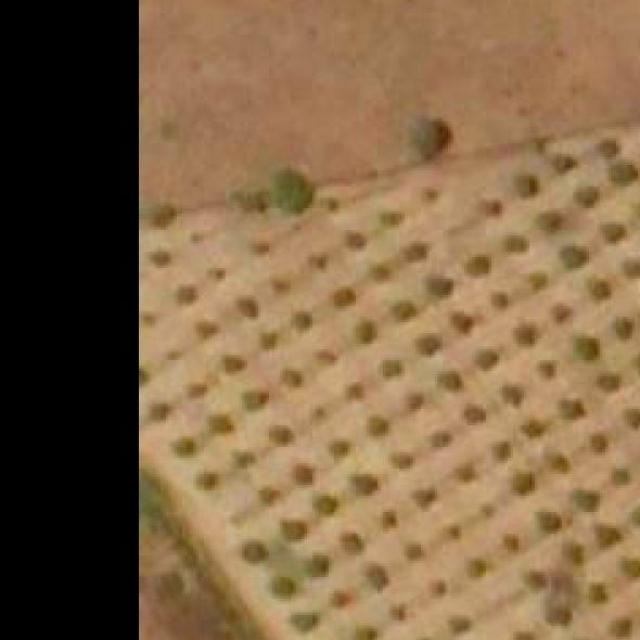Tree: (404, 110, 450, 160), (269, 168, 312, 215), (288, 609, 320, 640), (423, 276, 456, 300), (502, 236, 532, 260), (146, 398, 173, 424), (594, 523, 622, 548), (435, 366, 461, 392), (500, 530, 526, 556), (561, 244, 586, 271), (304, 252, 331, 276), (183, 380, 210, 404), (378, 206, 406, 228), (450, 461, 475, 485), (488, 438, 513, 462), (590, 432, 614, 457), (288, 308, 312, 332), (231, 447, 255, 471), (204, 262, 228, 286), (387, 452, 412, 475), (148, 206, 174, 228), (487, 292, 513, 314), (611, 163, 638, 184), (573, 184, 600, 205), (610, 464, 634, 487), (599, 222, 624, 244), (241, 539, 266, 561), (218, 355, 244, 376), (466, 400, 489, 423), (258, 485, 280, 509), (196, 468, 218, 492), (269, 274, 291, 298), (369, 262, 391, 286), (575, 339, 600, 360), (546, 604, 572, 624), (352, 474, 378, 494), (376, 506, 396, 532), (257, 328, 280, 350), (402, 541, 423, 565), (537, 210, 562, 230), (515, 322, 535, 347), (515, 472, 535, 497), (268, 425, 293, 445), (387, 601, 407, 625), (304, 553, 325, 575), (418, 333, 439, 355), (622, 255, 640, 280), (540, 512, 562, 532), (244, 389, 266, 409), (209, 414, 231, 434), (334, 286, 356, 306), (515, 176, 535, 197), (369, 566, 388, 588), (282, 520, 304, 539), (369, 414, 388, 436), (428, 431, 454, 447), (529, 270, 549, 290), (453, 311, 473, 331), (467, 254, 488, 273), (407, 241, 428, 260), (551, 303, 571, 322), (589, 583, 609, 602), (137, 311, 157, 330), (622, 555, 640, 576), (575, 493, 597, 510), (450, 618, 472, 635), (412, 490, 434, 507), (195, 322, 217, 339), (383, 357, 402, 376), (562, 401, 583, 418), (174, 439, 195, 456), (431, 577, 448, 598), (251, 241, 272, 258), (271, 577, 293, 593), (480, 349, 497, 369), (504, 384, 521, 404), (526, 569, 546, 586), (296, 466, 316, 483), (521, 420, 542, 436), (591, 279, 608, 298), (600, 374, 619, 391), (548, 452, 567, 469), (331, 439, 350, 456), (239, 298, 258, 315), (152, 249, 171, 266), (556, 154, 576, 170), (564, 541, 580, 561), (282, 371, 302, 387), (358, 322, 374, 342), (597, 138, 616, 154), (315, 496, 334, 512), (396, 304, 415, 320), (616, 320, 633, 336), (613, 618, 629, 635), (347, 230, 364, 246), (179, 287, 195, 304), (483, 201, 499, 217), (470, 559, 486, 575), (345, 537, 361, 553), (407, 393, 423, 409), (356, 628, 375, 640), (627, 409, 640, 425), (515, 631, 535, 640), (632, 507, 640, 526)
